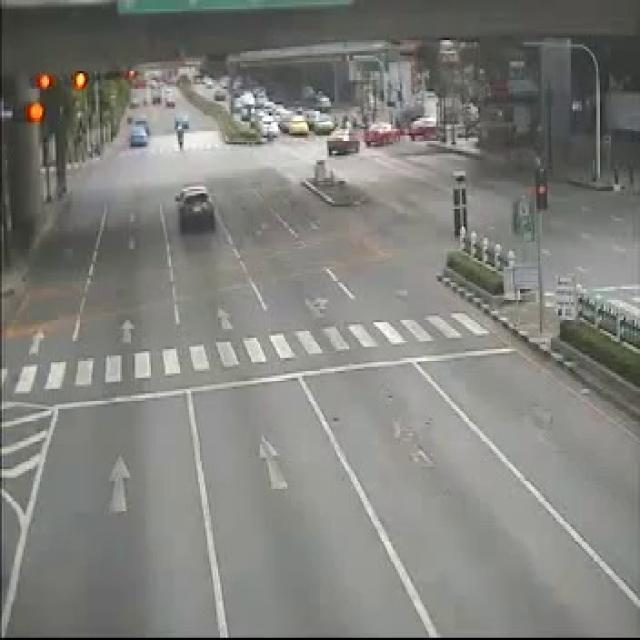stop_line: (48, 342, 517, 409)
